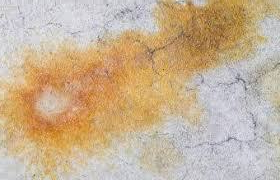Corrosion: (1, 1, 280, 180)
